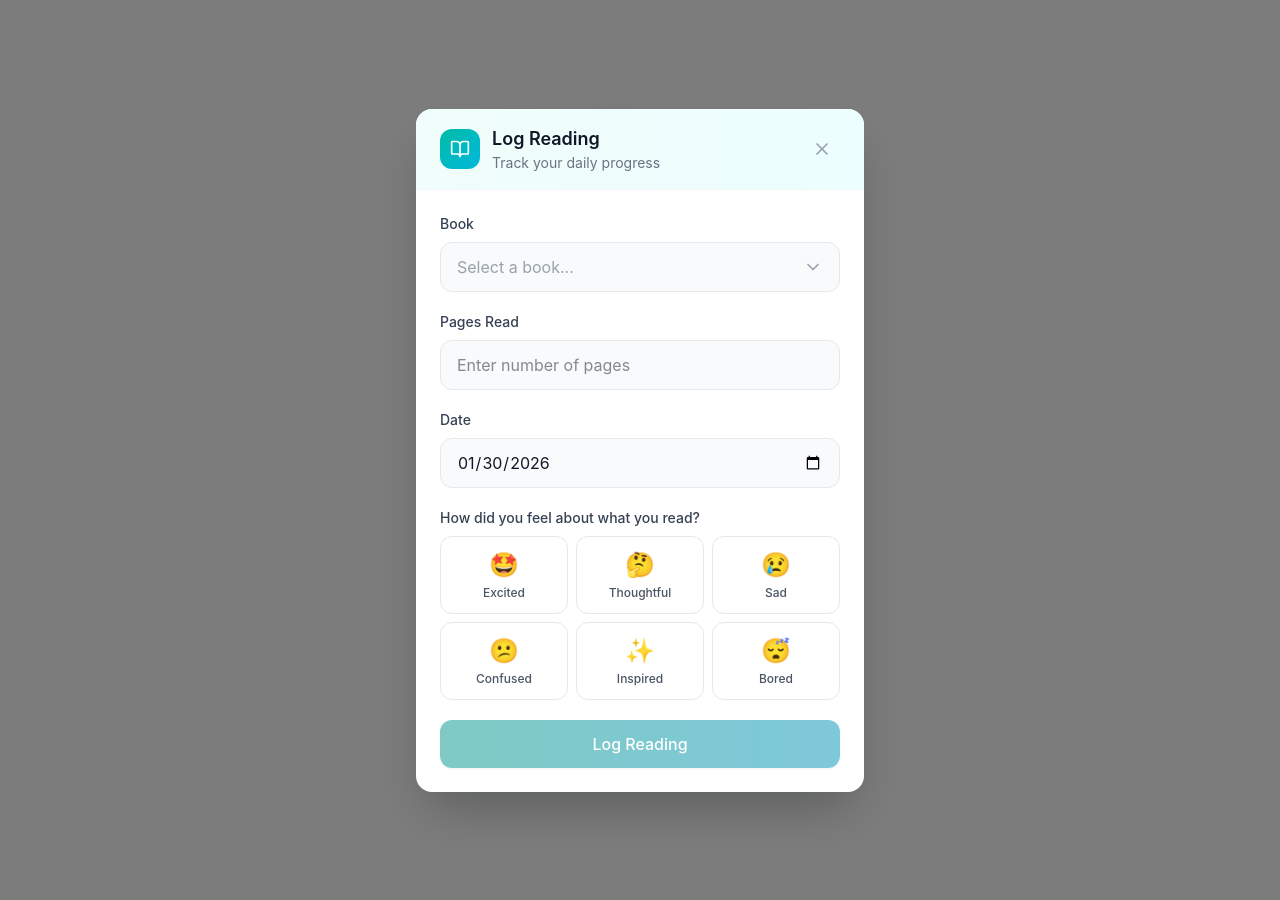
it: ReadingCheckinModal › book dropdown › shows books when dropdown is clicked
The width and height of the screenshot is (1280, 900).
Click the button "Select a book..." at (515,266), box [440,242,840,292]
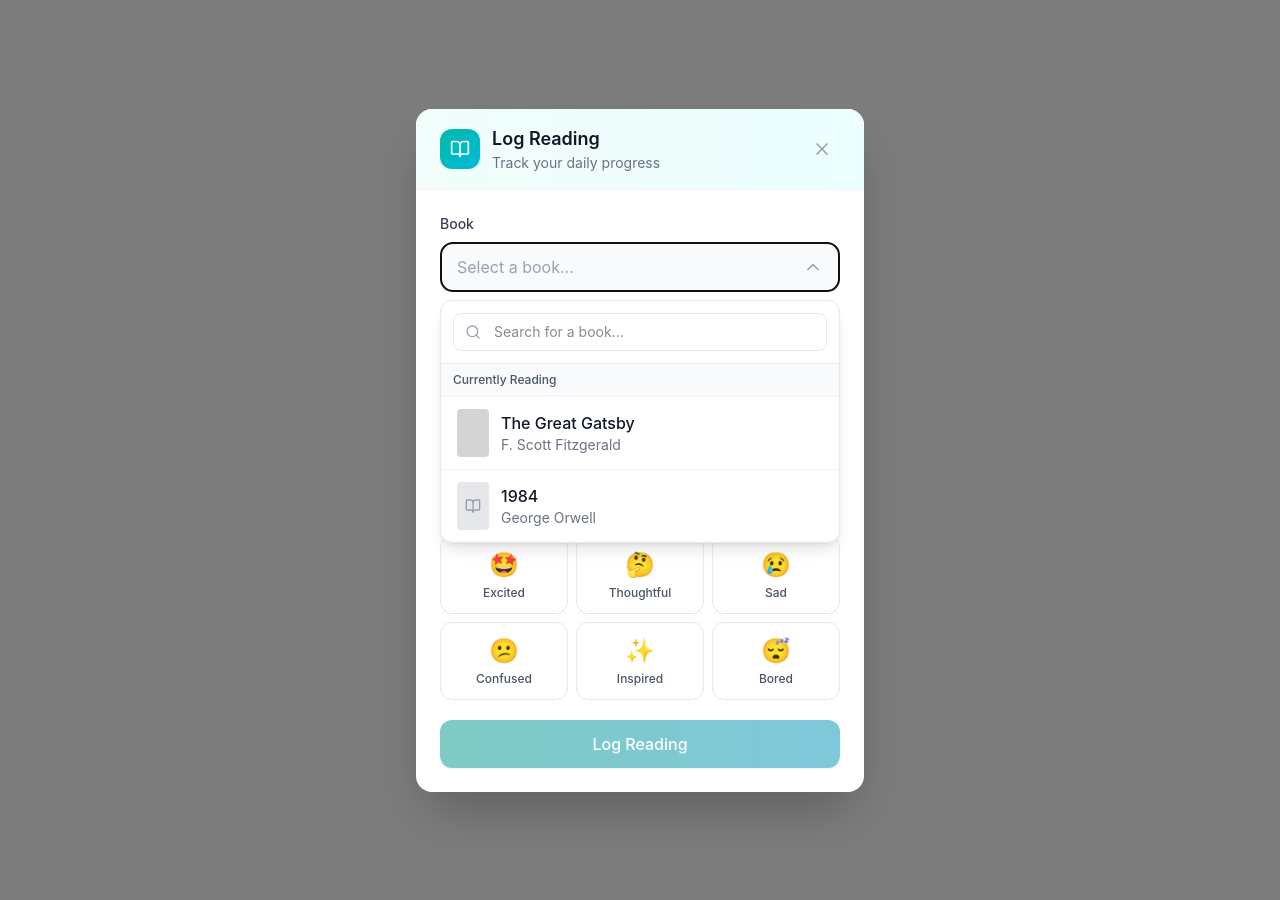
Result: the text "The Great Gatsby" is shown at [501,412,635,432]
Result: the text "1984" is shown at [501,486,538,506]
